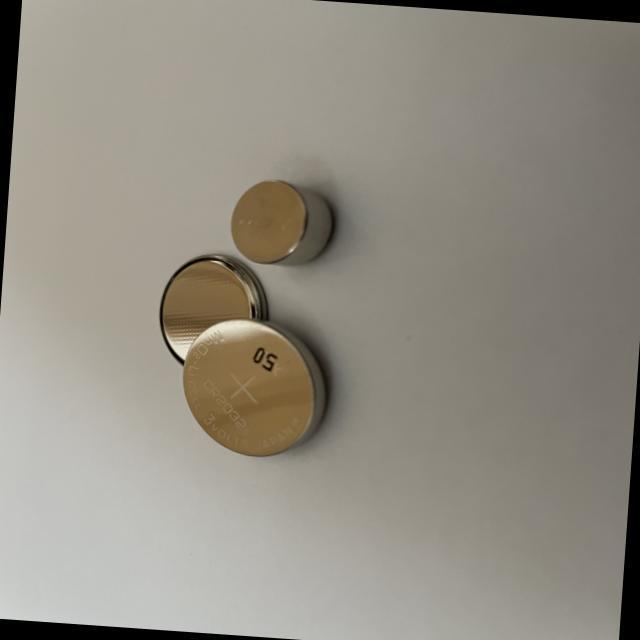COIN: (174, 313, 334, 462), (148, 247, 274, 371), (225, 173, 338, 270)
